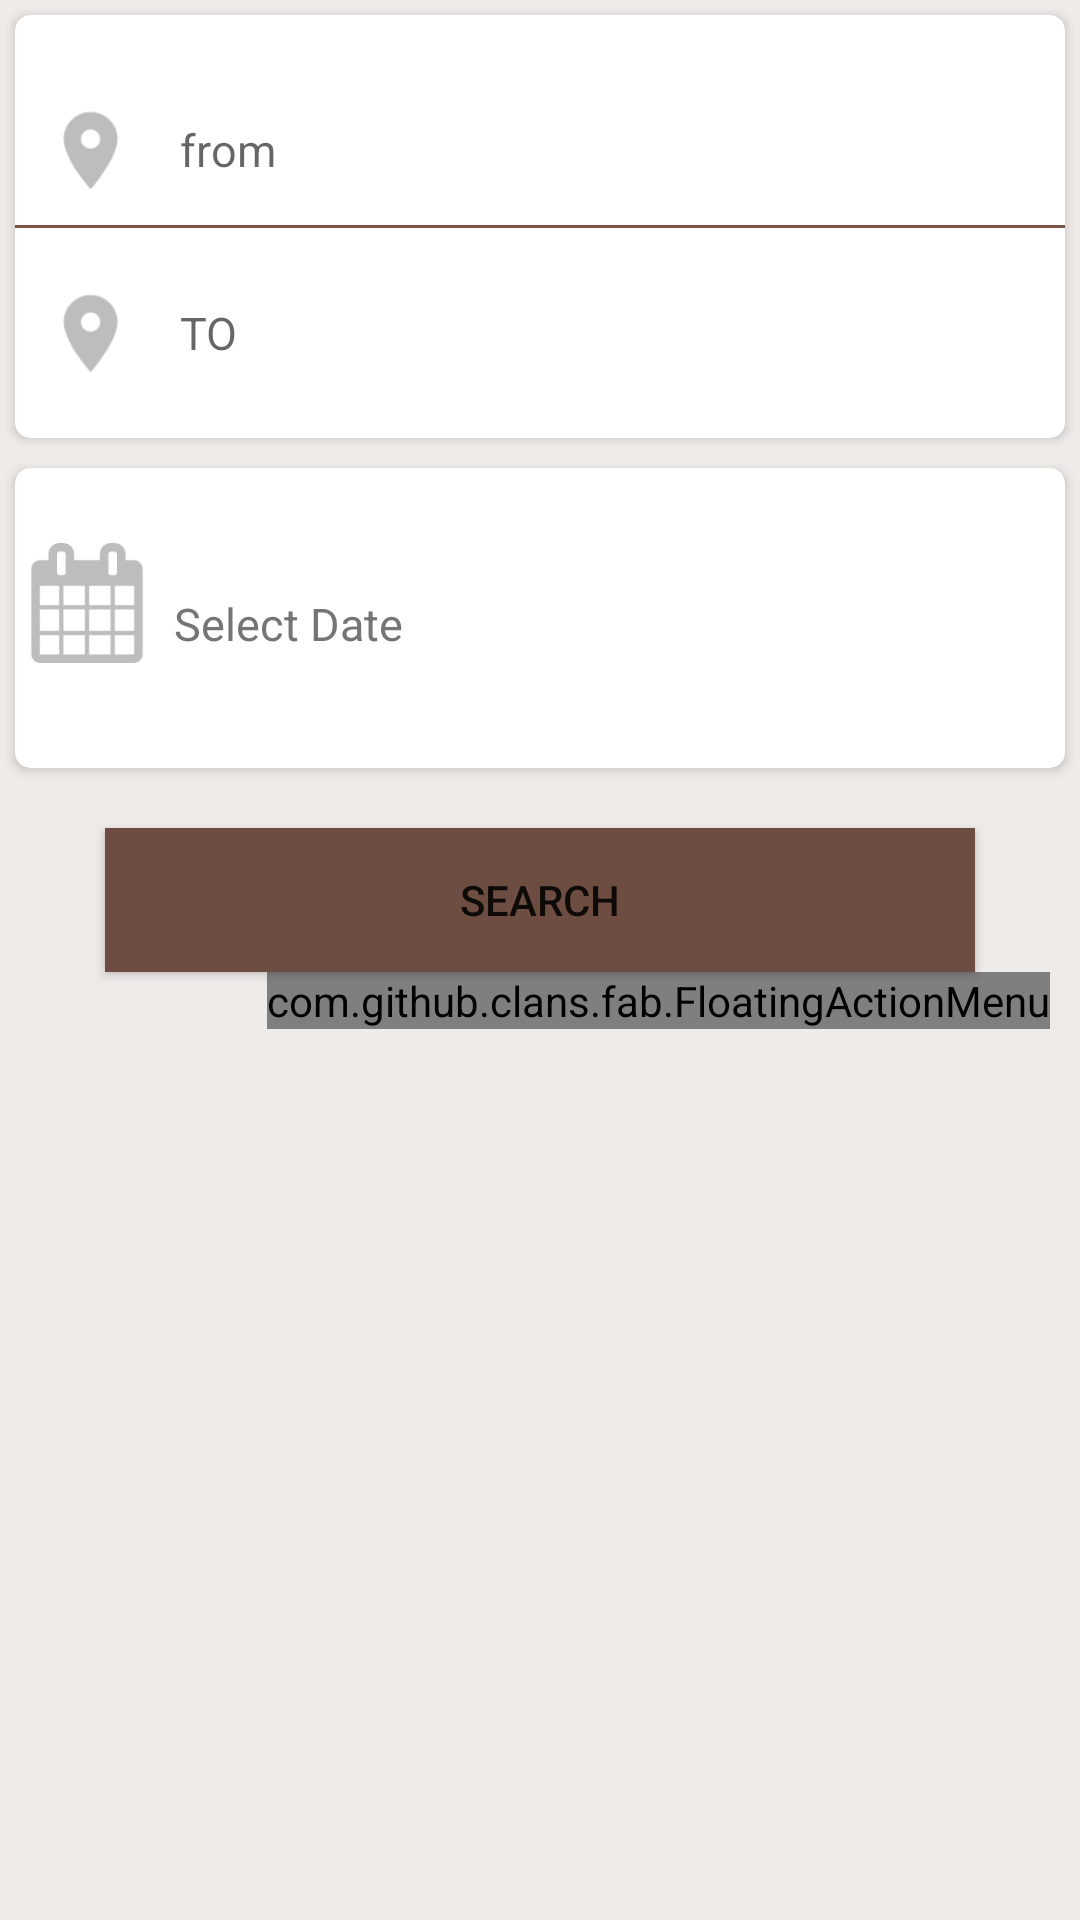

Named icons in this screenshot (1080px x 1920px) and their centers, [x,y]:
location: [90,150], [90,333]
